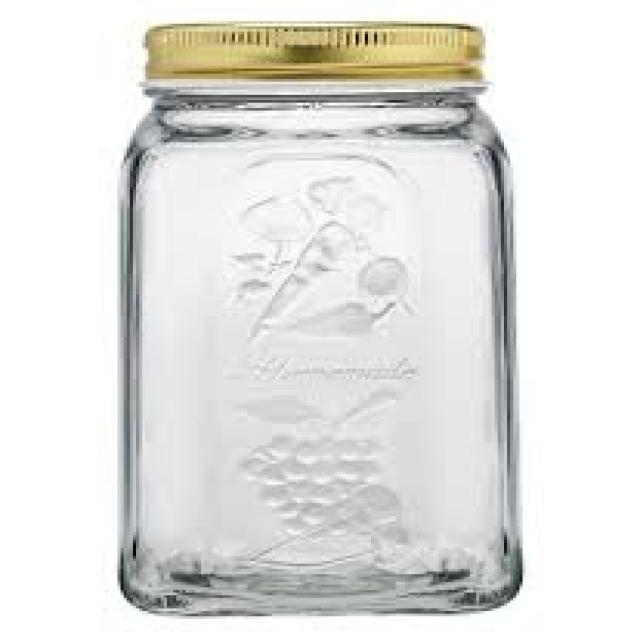glass: (115, 76, 523, 611)
metal: (143, 21, 486, 76)
